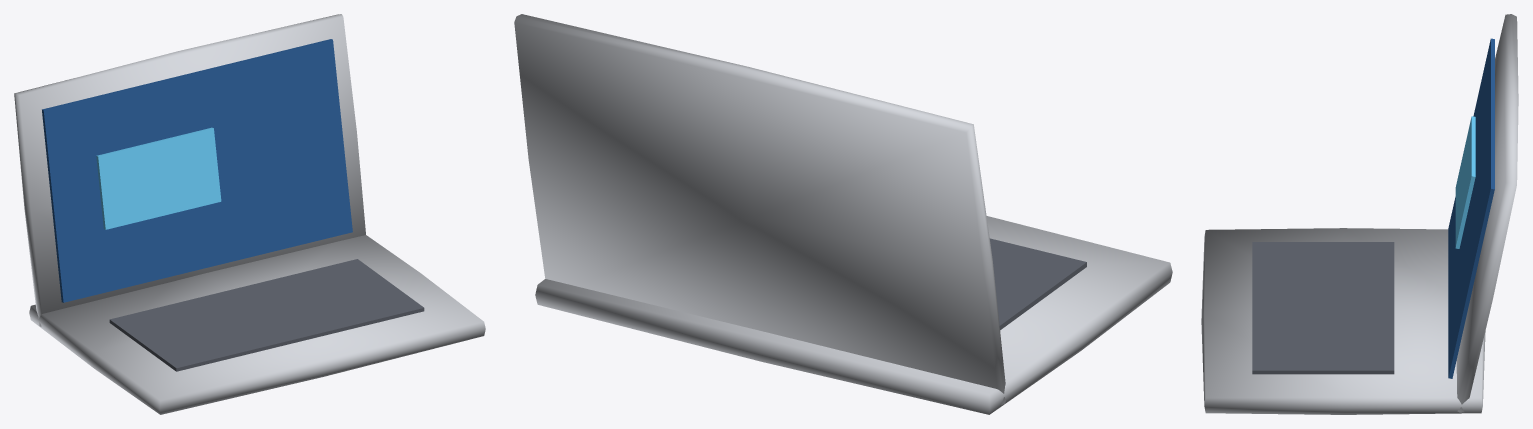
File: laptop.glb
3 views of the same model, side by side, from view 1: azimuth 30°, elevation 25°; view 2: azimuth 150°, elevation 25°; view 3: azimuth 270°, elevation 25° (orthographic). The views are drawn at different scales.
Visible parts, largest first — view 1: root; view 2: root; view 3: root.
Boxes of the visible parts, x1,y1,x2,y2 form: root: (14,14,485,414); root: (514,14,1172,414); root: (1201,14,1518,414).
Bounding box in the file's own units: 0.4 × 0.2574 × 0.3122.
